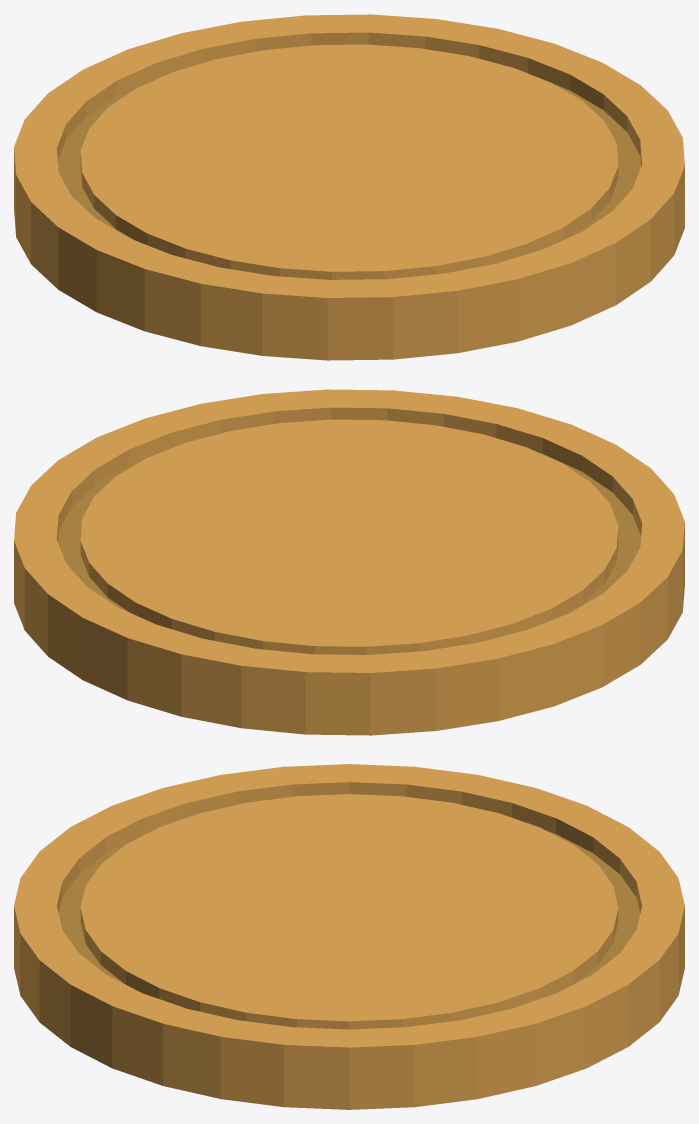
The model's file is coin.glb.
3 views of the same model, one above another, from view 1: azimuth 30°, elevation 25°; view 2: azimuth 150°, elevation 25°; view 3: azimuth 270°, elevation 25° (orthographic).
Parts seen in each view (by area): view 1: Simple coin; view 2: Simple coin; view 3: Simple coin.
Boxes of the visible parts, x1,y1,x2,y2 form: Simple coin: (14,14,684,360); Simple coin: (14,389,684,735); Simple coin: (14,764,684,1109).
Size of the model in its own units: 2 by 0.205 by 2.
